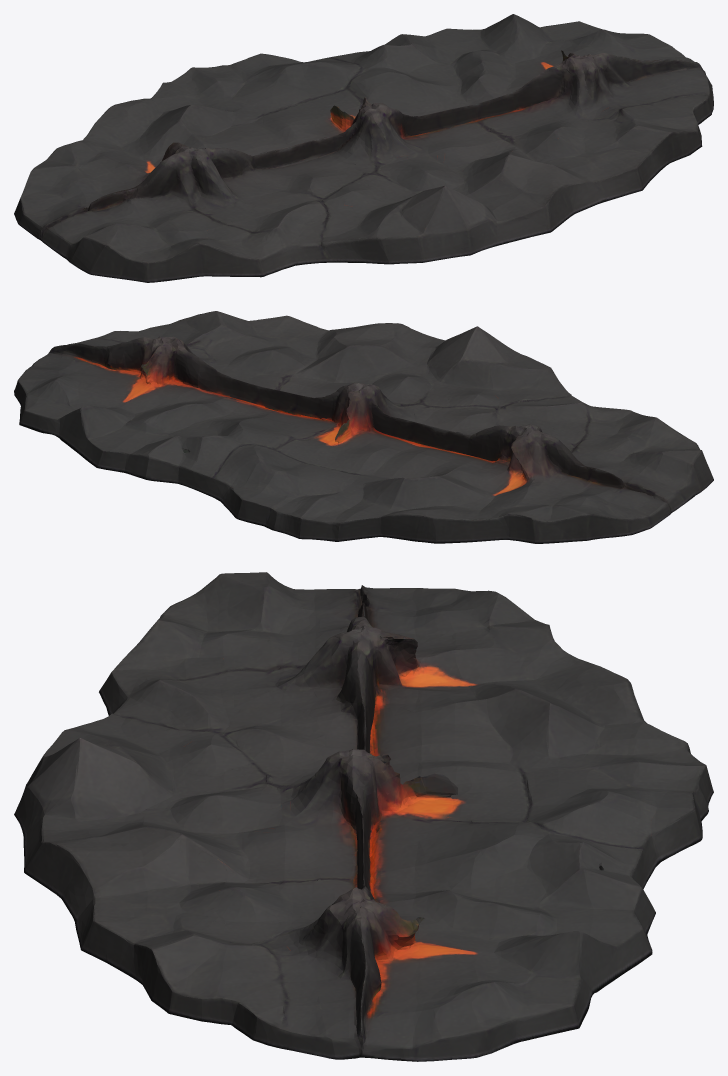
3 renders of one model, top to bottom at view 1: azimuth 30°, elevation 25°; view 2: azimuth 150°, elevation 25°; view 3: azimuth 270°, elevation 25°, orthographic. The views are drawn at different scales.
Visible parts, largest first — view 1: world; view 2: world; view 3: world.
Part boxes in pixels (x1=…): world: x1=14, y1=14, x2=713, y2=282; world: x1=14, y1=311, x2=713, y2=543; world: x1=14, y1=572, x2=713, y2=1061.
Bounding box in the file's own units: 1 × 0.0831 × 0.6403.
1 material, 1 textured.
